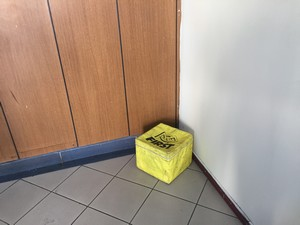cube: (135, 123, 194, 183)
